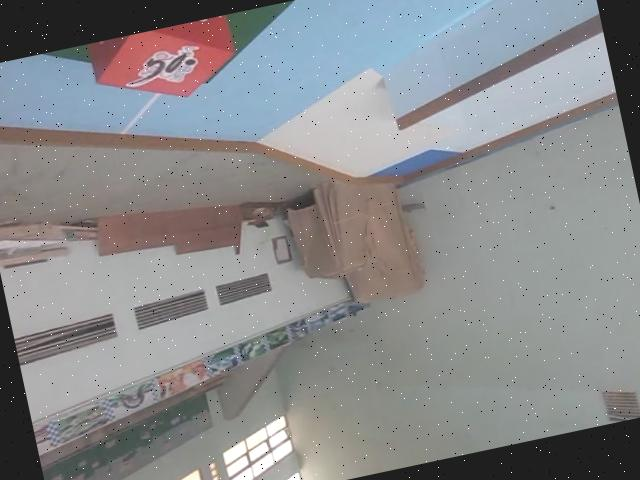R1: (79, 14, 246, 118)
